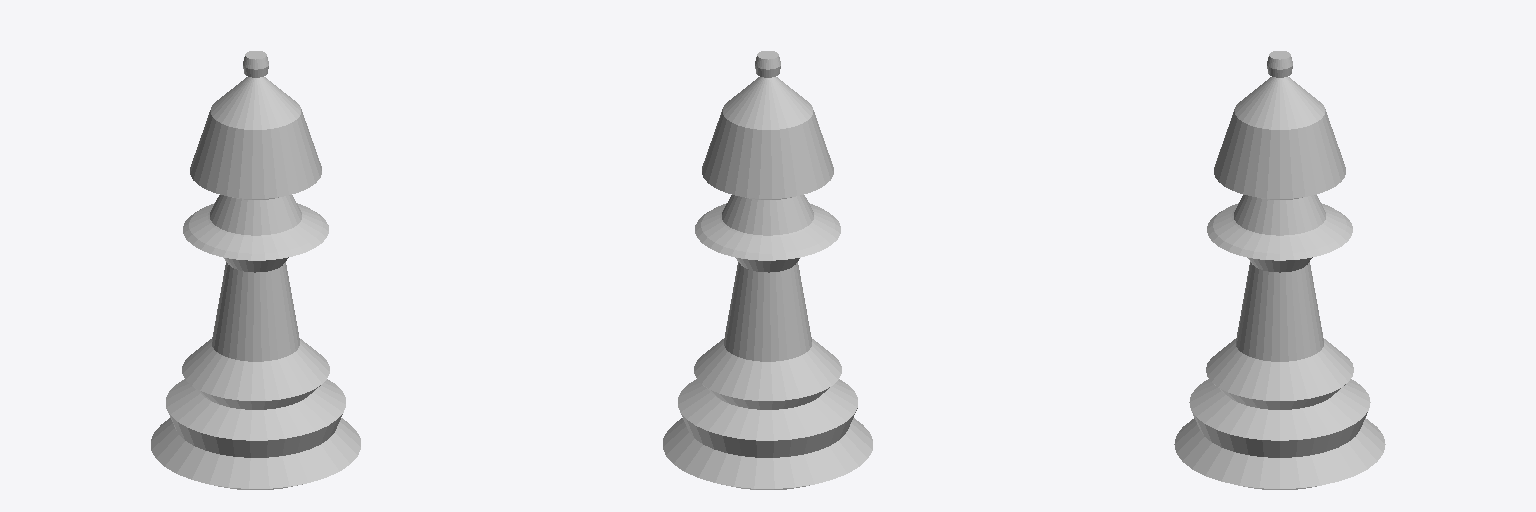
Rendered from alfiere.obj.
The picture shows the model from 3 angles: view 1: azimuth 30°, elevation 25°; view 2: azimuth 150°, elevation 25°; view 3: azimuth 270°, elevation 25°; orthographic projection.
Parts seen in each view (by area): view 1: Cylinder.011; view 2: Cylinder.011; view 3: Cylinder.011.
Part boxes in pixels (bbox=[...]): Cylinder.011: bbox=[151, 51, 360, 489]; Cylinder.011: bbox=[663, 51, 872, 489]; Cylinder.011: bbox=[1174, 51, 1385, 489].
Bounding box in the file's own units: 1.41 × 2.95 × 1.41.